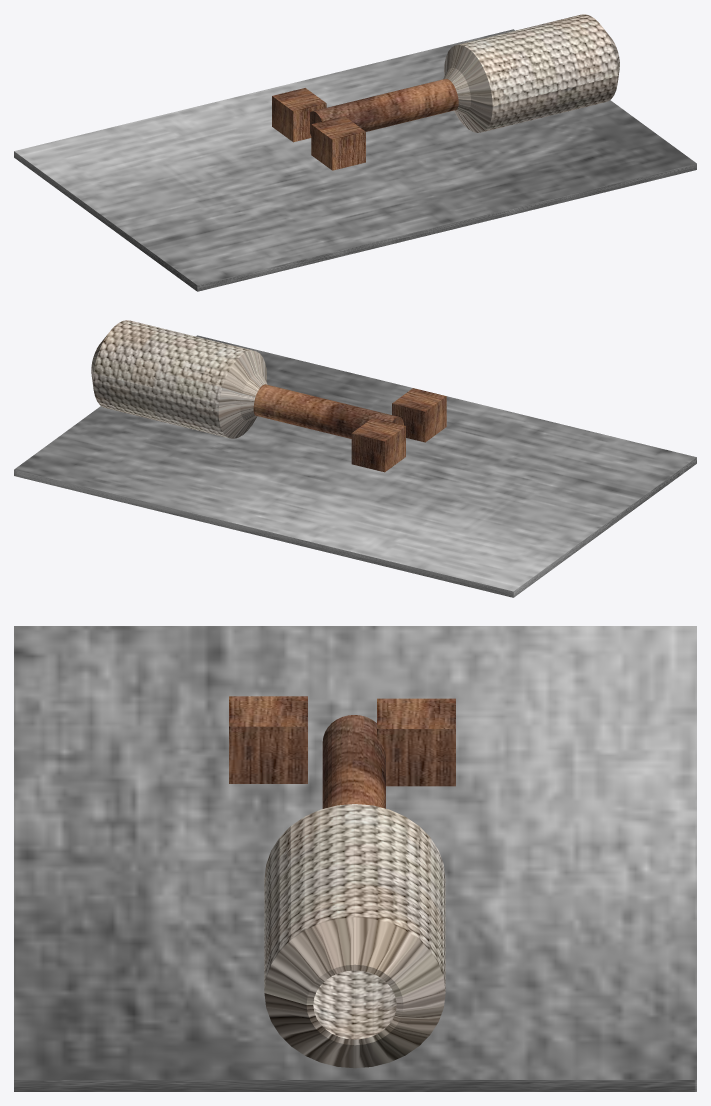
3 renders of one model, top to bottom at view 1: azimuth 30°, elevation 25°; view 2: azimuth 150°, elevation 25°; view 3: azimuth 270°, elevation 25°, orthographic. The views are drawn at different scales.
Parts seen in each view (by area): view 1: base_Material.007, base_Material.005, base_Material.006, base_Material.004; view 2: base_Material.007, base_Material.005, base_Material.006, base_Material.004; view 3: base_Material.007, base_Material.005, base_Material.006, base_Material.004.
Part boxes in pixels (x1,y1,x2,y2): base_Material.007: (14,29,696,291); base_Material.005: (443,14,619,132); base_Material.006: (272,88,365,170); base_Material.004: (310,79,458,135); base_Material.007: (14,335,696,597); base_Material.005: (91,320,267,438); base_Material.006: (351,388,446,472); base_Material.004: (253,384,403,438); base_Material.007: (14,626,696,1091); base_Material.005: (264,804,445,1068); base_Material.006: (229,696,455,786); base_Material.004: (322,715,385,808).
Size of the model in its own units: 6.07 by 1.02 by 3.85.
